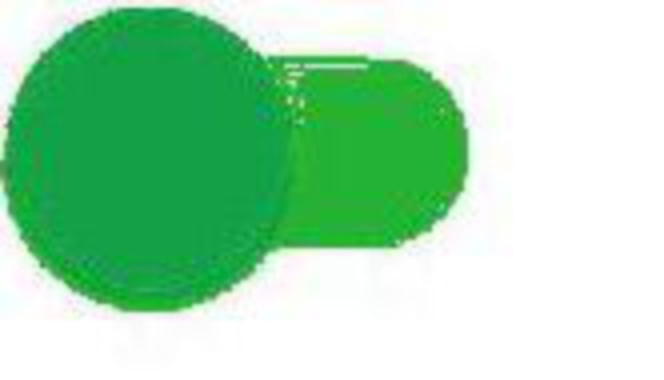Switch: (1, 1, 663, 379)
